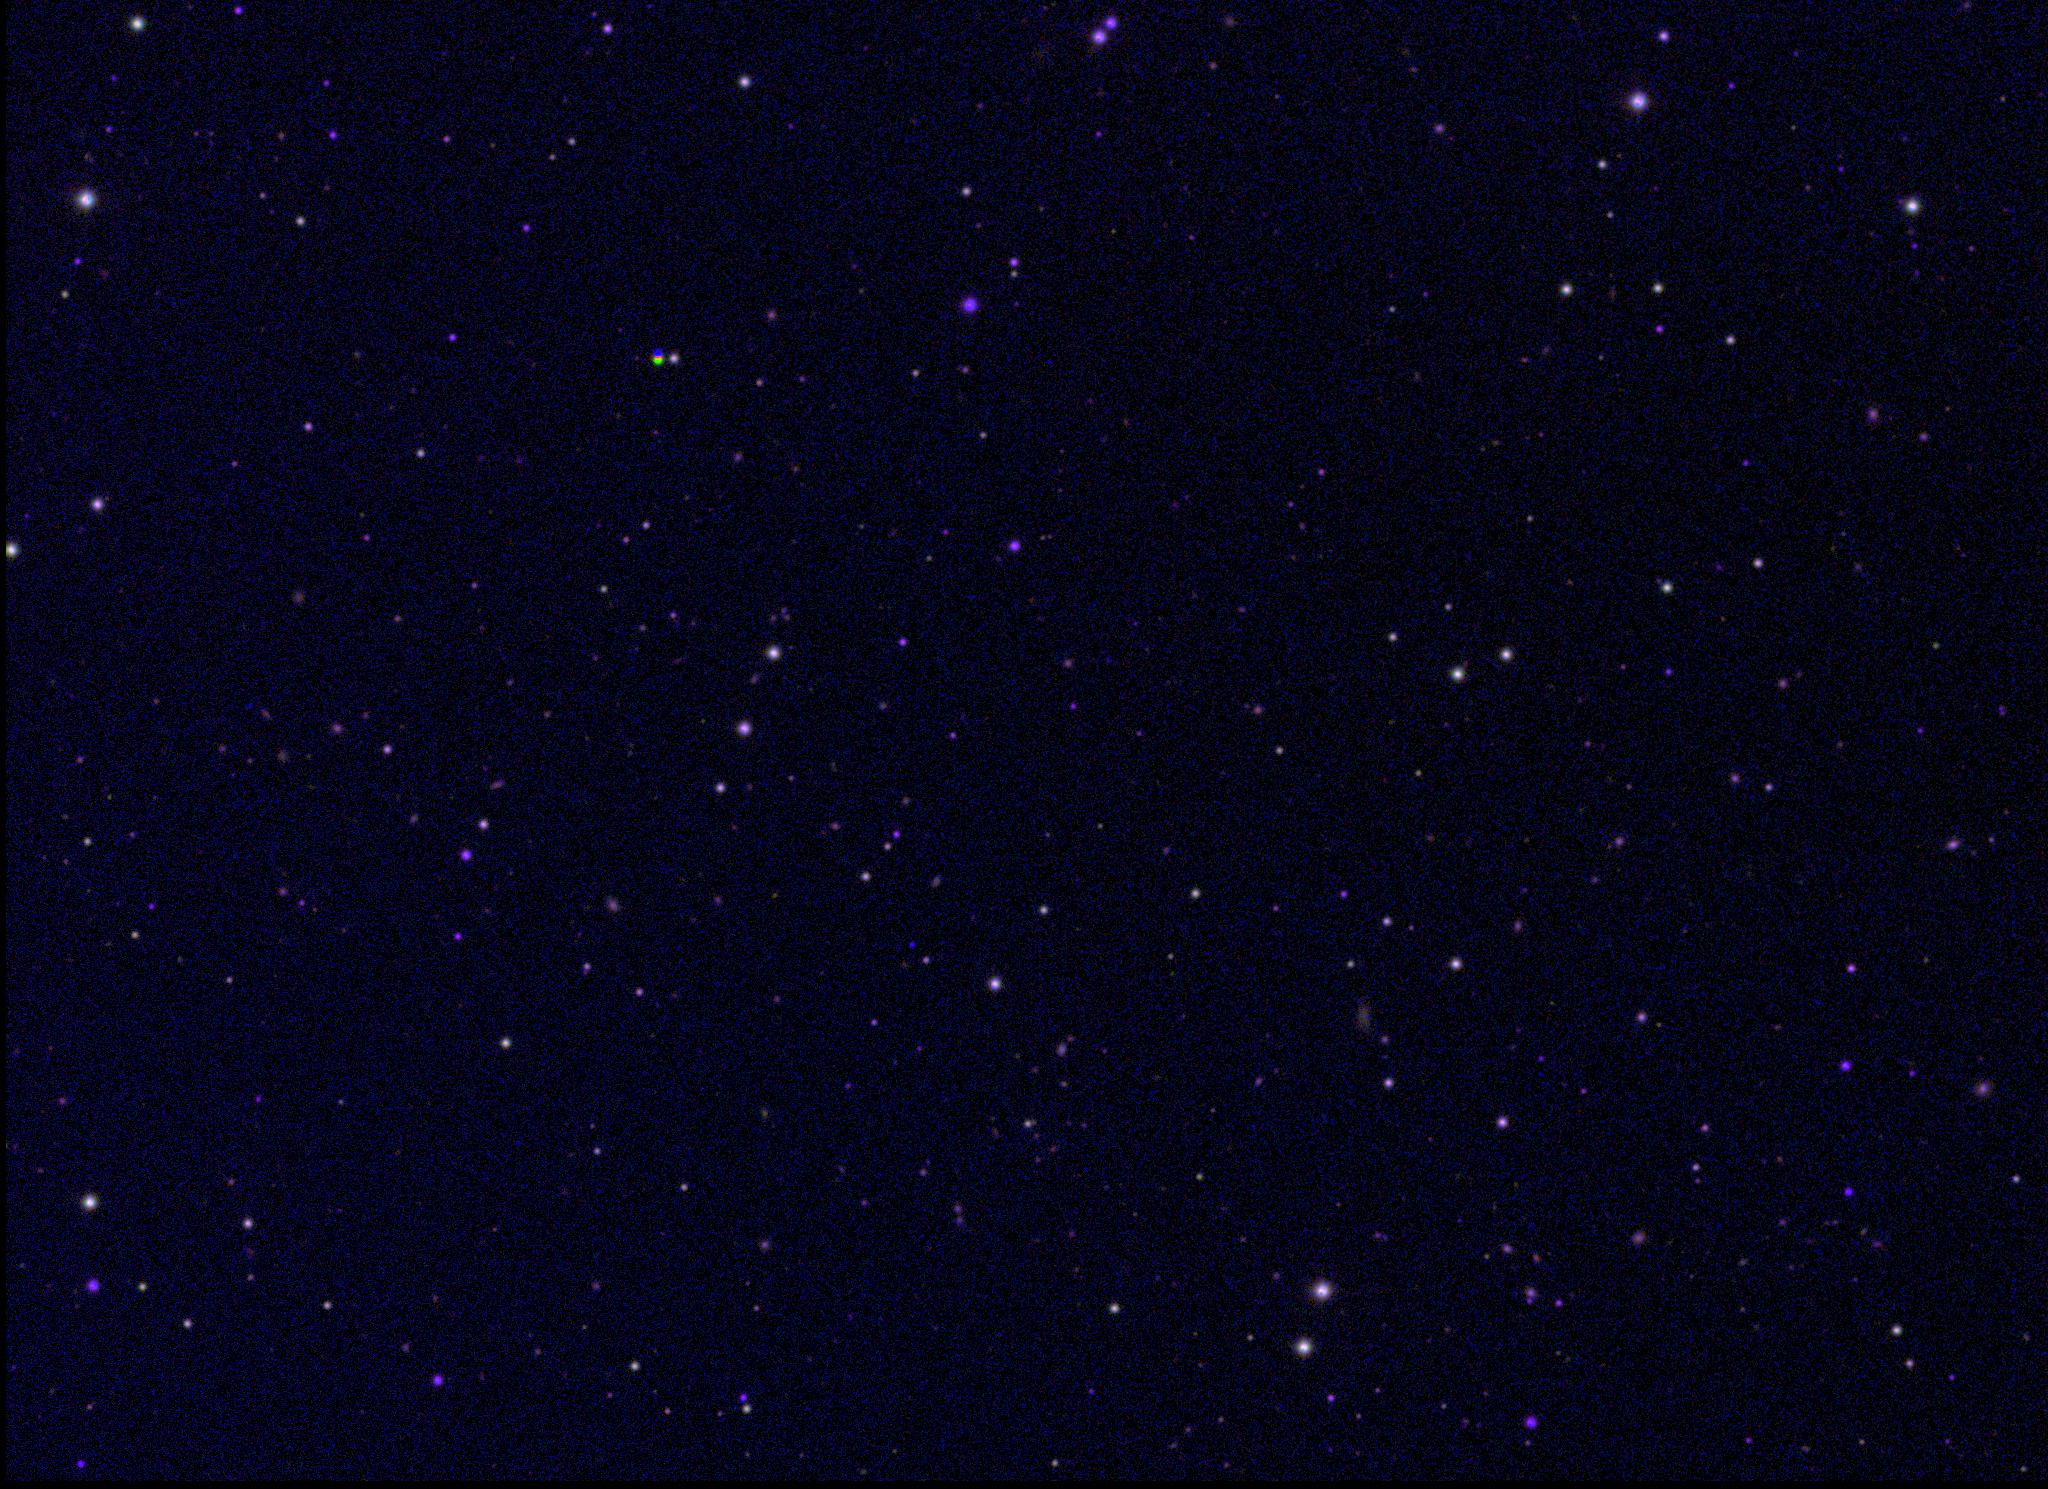L: (905, 937, 919, 951)
